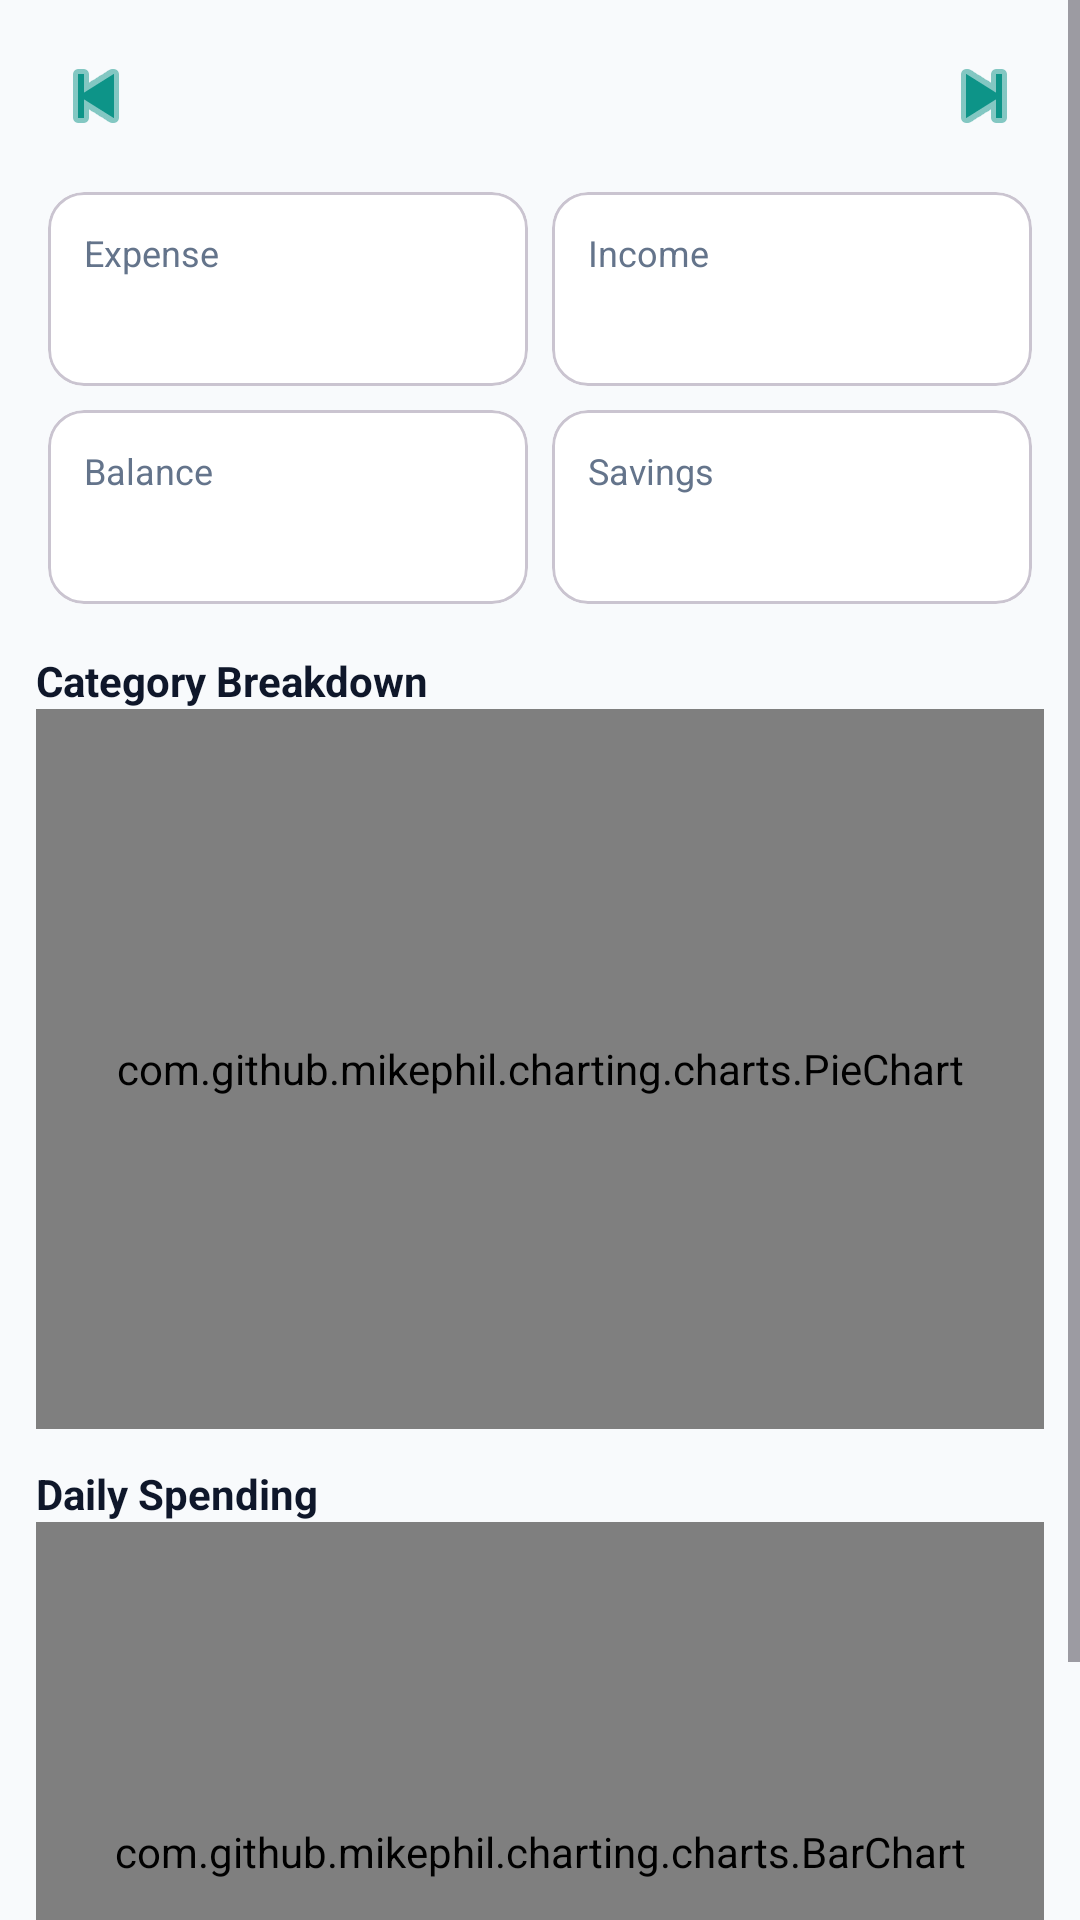

Where to tap for icons on this 1080x1920 app screen, as (x,y):
next: (984,96)
previous: (96,96)
